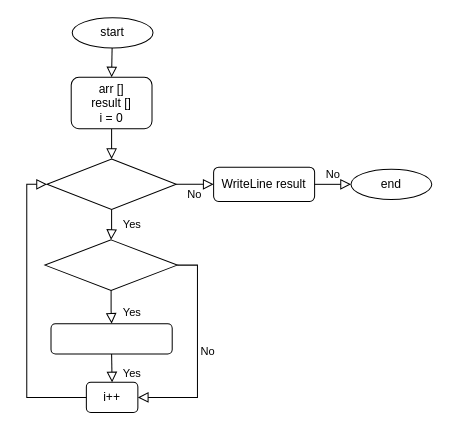
The diagram is 449 pixels wide and 430 high, and some of its shapes have lost their labels. The shapes that lost their labels are listed below. From the top down, each one's centre as x and y in pixels, then its label:
At (111,184): "i < arr.Length".
At (110,264): "arr [i].Length <= 3".
At (111,338): "result [i] += arr [i]".
